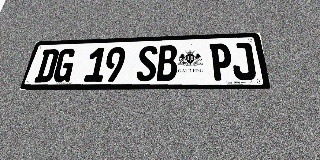1: (84, 47, 108, 82)
9: (103, 47, 126, 82)
B: (156, 45, 177, 81)
D: (33, 49, 60, 82)
G: (51, 48, 77, 82)
J: (230, 42, 257, 80)
P: (209, 43, 233, 80)
S: (136, 46, 158, 81)
